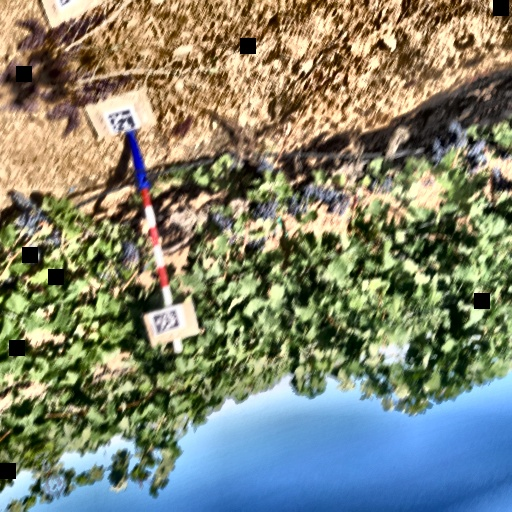QR: (147, 304, 186, 339), (105, 105, 139, 137)
